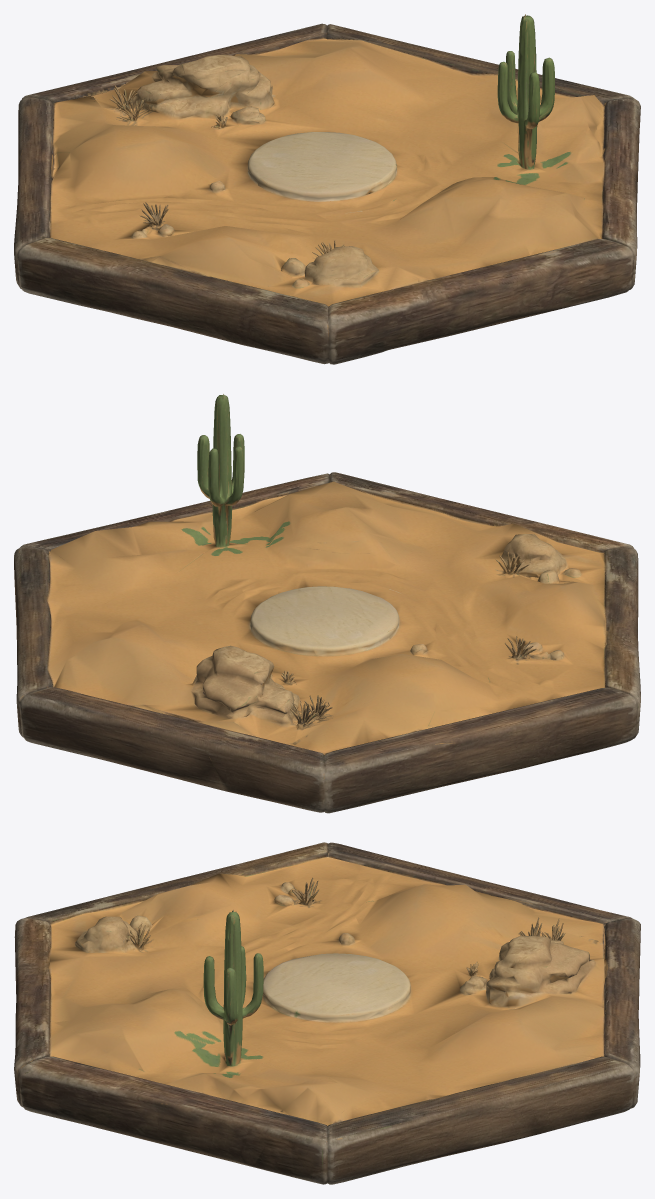
Rendered from desert-tile.glb.
3 views of the same model, one above another, from view 1: azimuth 30°, elevation 25°; view 2: azimuth 150°, elevation 25°; view 3: azimuth 270°, elevation 25° (orthographic).
Parts seen in each view (by area): view 1: Mesh1.0; view 2: Mesh1.0; view 3: Mesh1.0.
Part boxes in pixels (bbox=[...]): Mesh1.0: bbox=[14, 14, 640, 364]; Mesh1.0: bbox=[14, 394, 640, 813]; Mesh1.0: bbox=[14, 842, 640, 1184].
Size of the model in its own units: 1.9 by 0.6006 by 1.66.
1 material, 1 textured.
